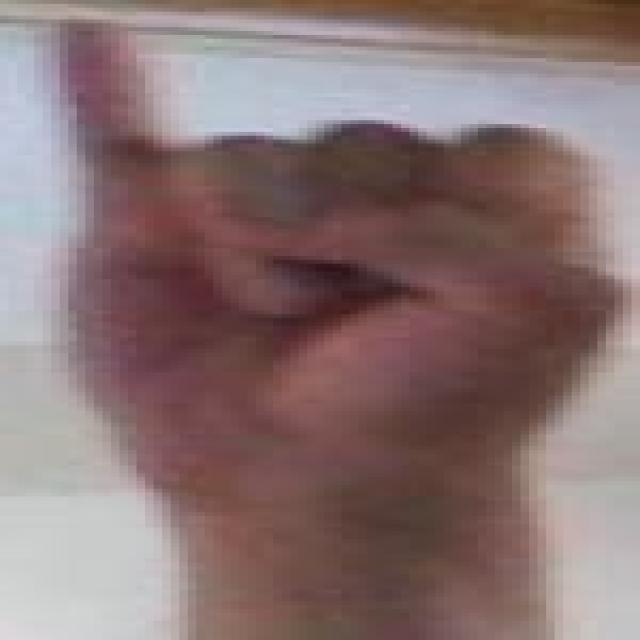I: (8, 0, 640, 473)
